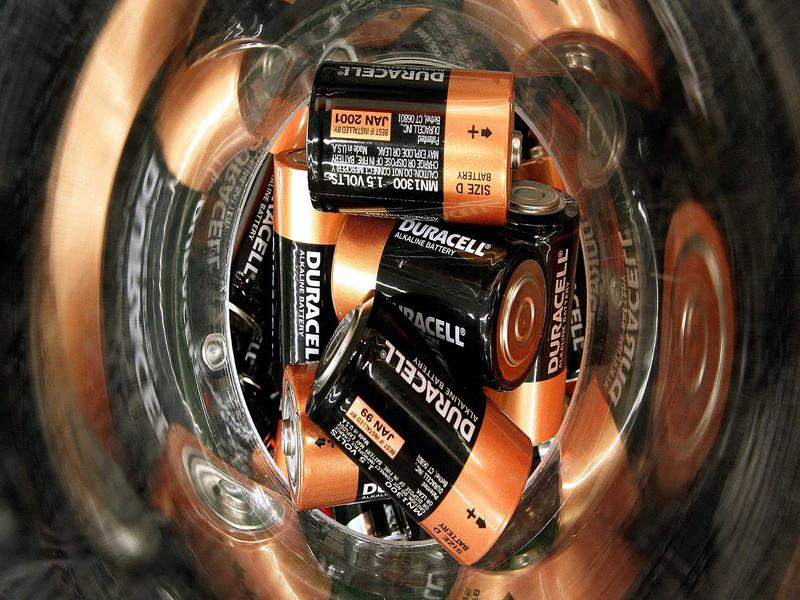battery: (304, 292, 537, 572), (321, 214, 557, 398), (297, 53, 523, 227)
